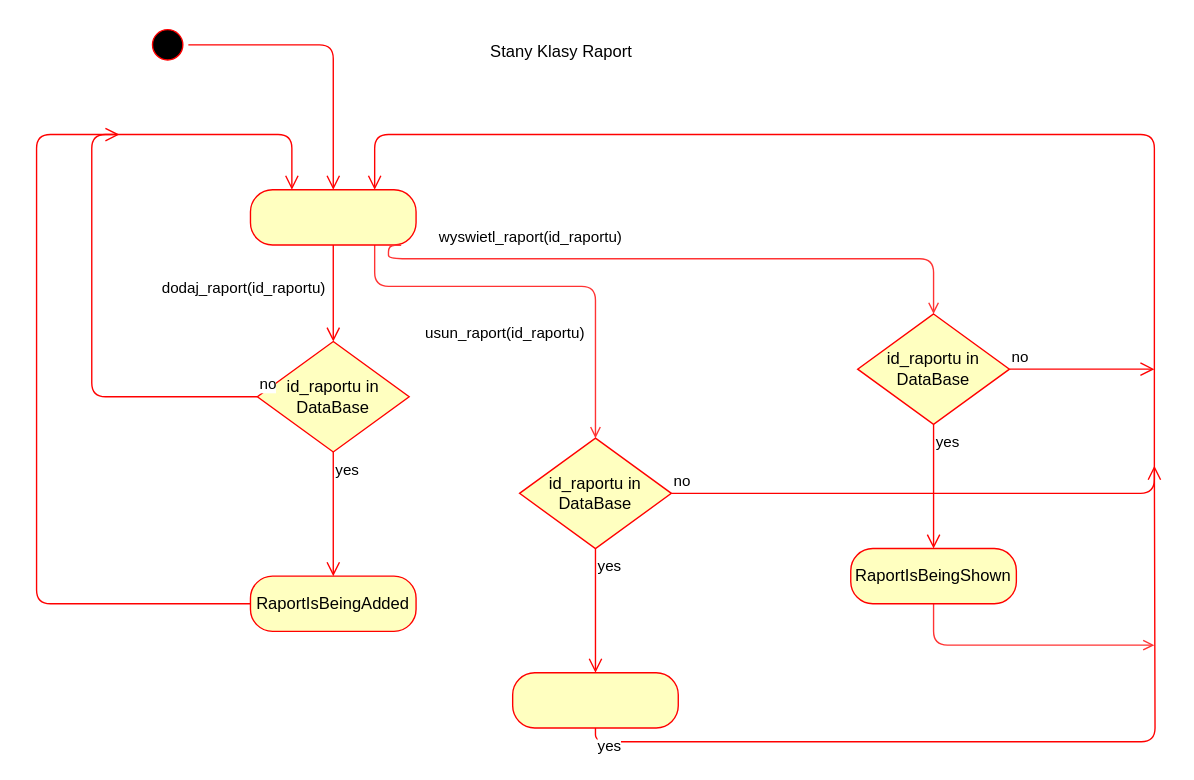
Some shapes in this 1194 by 780 pixel diagram are drawn without their labels. Each missing label, with the centre of its shape:
"RaportIsBeingDeleted" belongs at (x=594, y=699).
"RaportMenu" belongs at (x=332, y=216).
